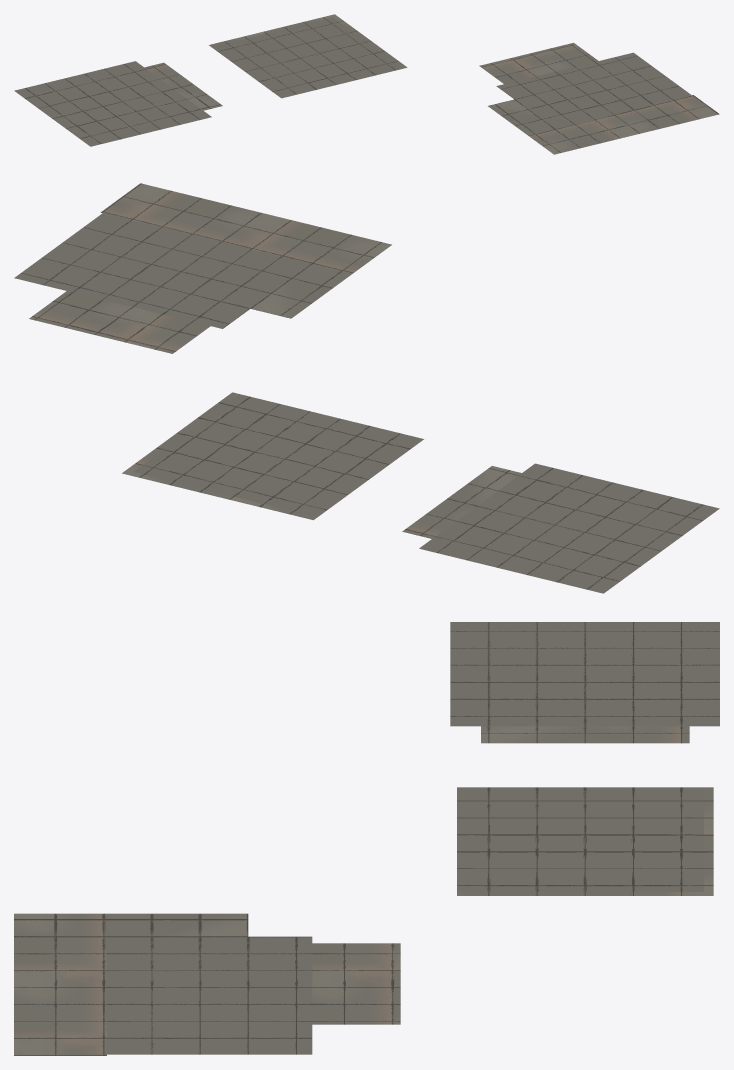
Rendered from colony-shared-floor-v001.glb.
The picture shows the model from 3 angles, top to bottom: view 1: azimuth 30°, elevation 25°; view 2: azimuth 150°, elevation 25°; view 3: azimuth 270°, elevation 25°; orthographic projection. The views are drawn at different scales.
Visible parts, largest first — view 1: ColonyFloor_Clean, ColonyFloor_Exterior; view 2: ColonyFloor_Clean, ColonyFloor_Exterior; view 3: ColonyFloor_Clean, ColonyFloor_Exterior.
Part boxes in pixels (box(x1,y1,x2,y2)): ColonyFloor_Clean: box(14, 17, 691, 146); ColonyFloor_Exterior: box(144, 14, 719, 154); ColonyFloor_Clean: box(14, 213, 719, 593); ColonyFloor_Exterior: box(29, 183, 521, 538); ColonyFloor_Clean: box(107, 622, 719, 1054); ColonyFloor_Exterior: box(14, 726, 713, 1055).
Bounding box in the file's own units: 32 × 0 × 22.
